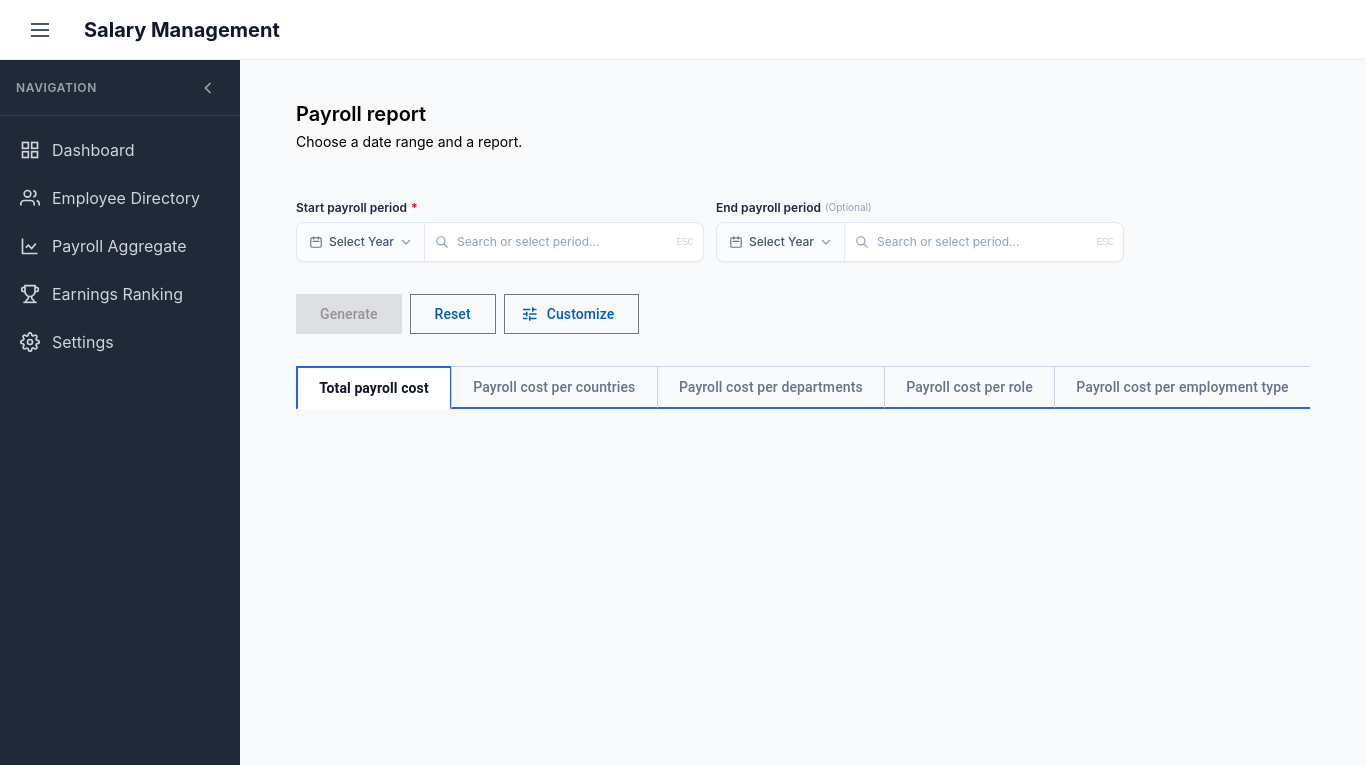
Test case: Aggregate Report Page › should render the department report with accurate data and a coherent donut
Click the button "Select Year" below "Start payroll period": x=361, y=242 [297, 223, 425, 261]
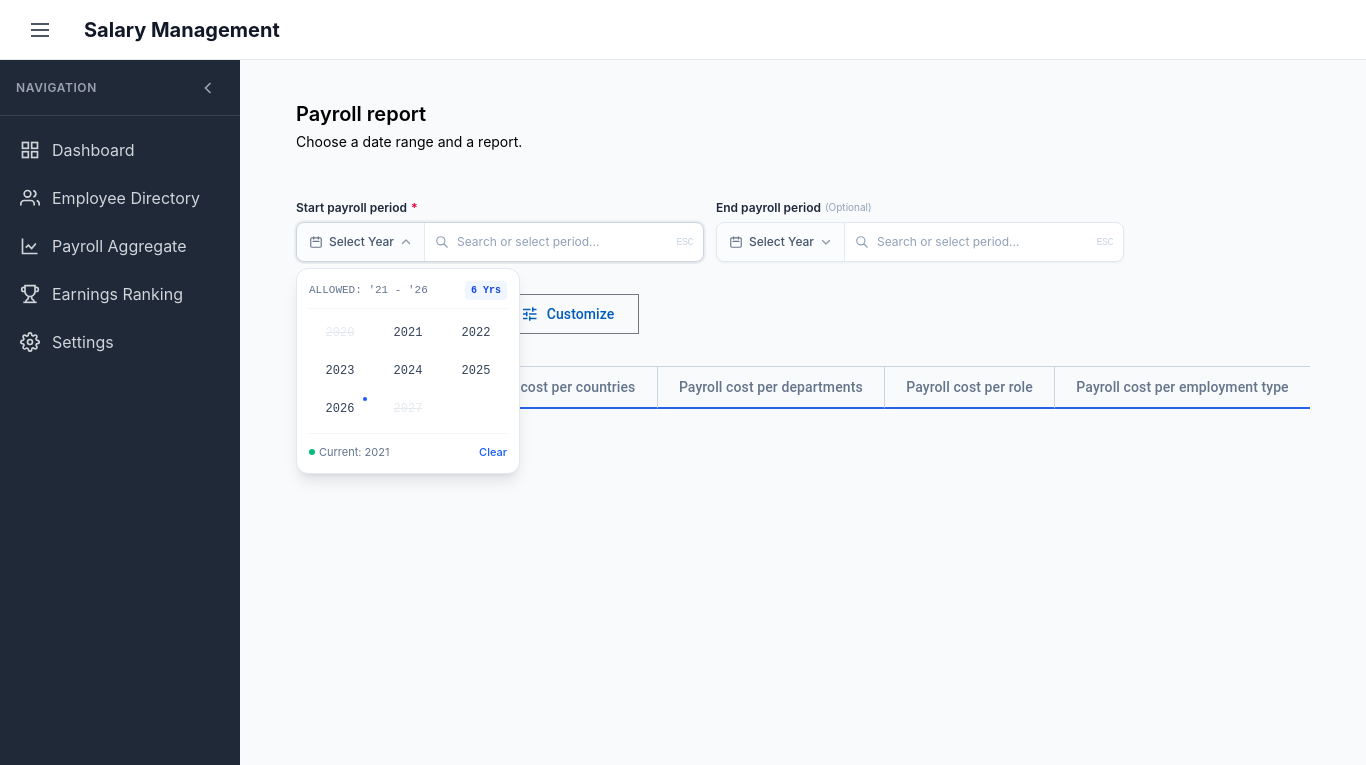
Expected: the button with test id "period-picker-year-2026" is shown
Click the button with test id "period-picker-year-2026": x=340, y=409 [309, 393, 371, 425]
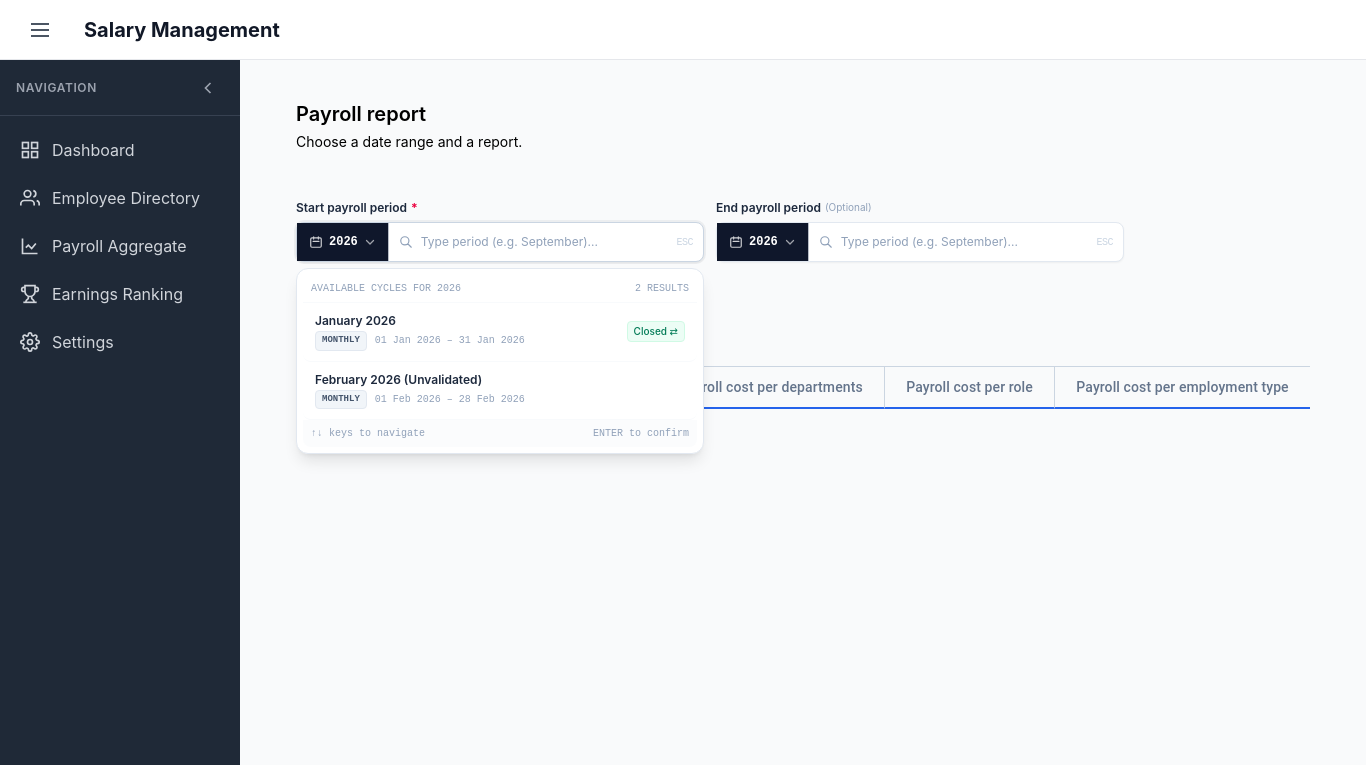
Click the button "January 2026 MONTHLY 01 Jan 2026 – 31 Jan 2026 Closed ⇄": x=500, y=333 [303, 303, 697, 362]
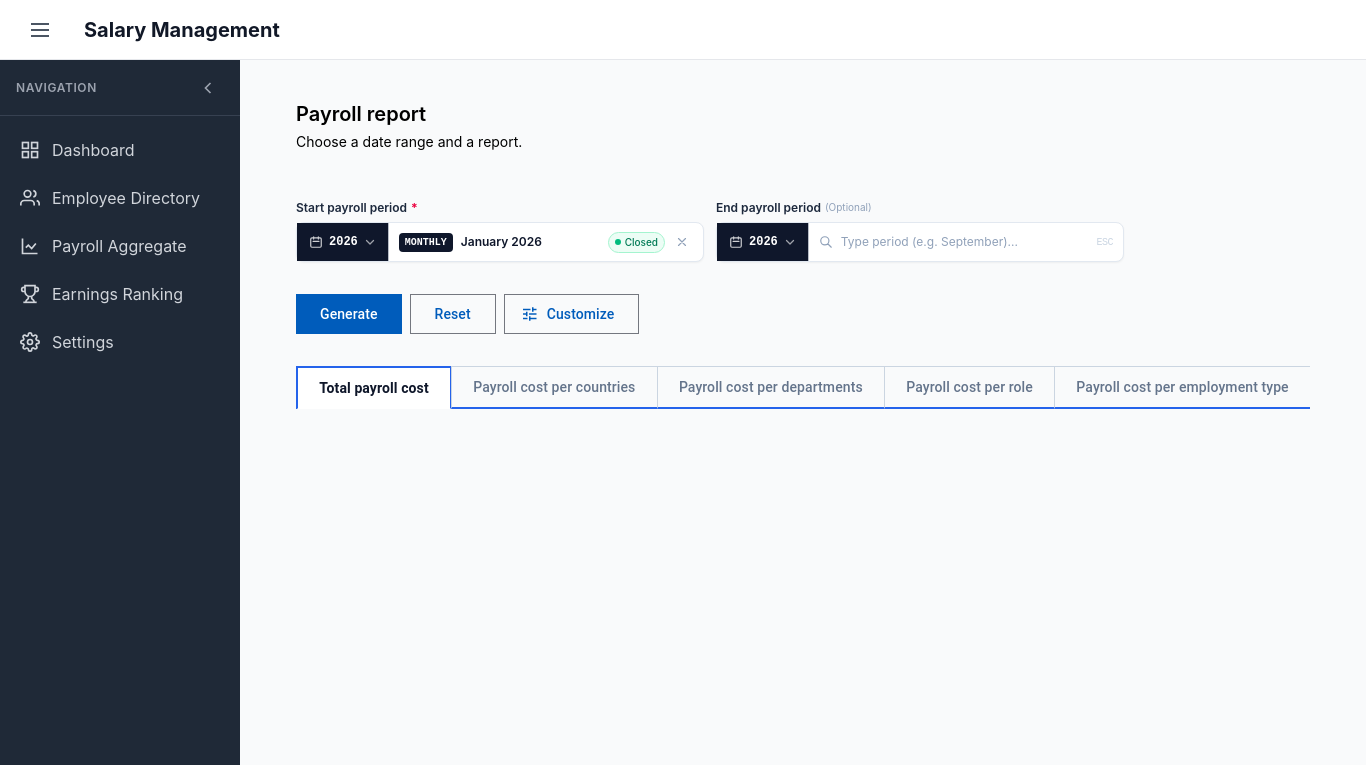
Click the button with test id "btn-generate": x=349, y=314 [296, 294, 402, 334]
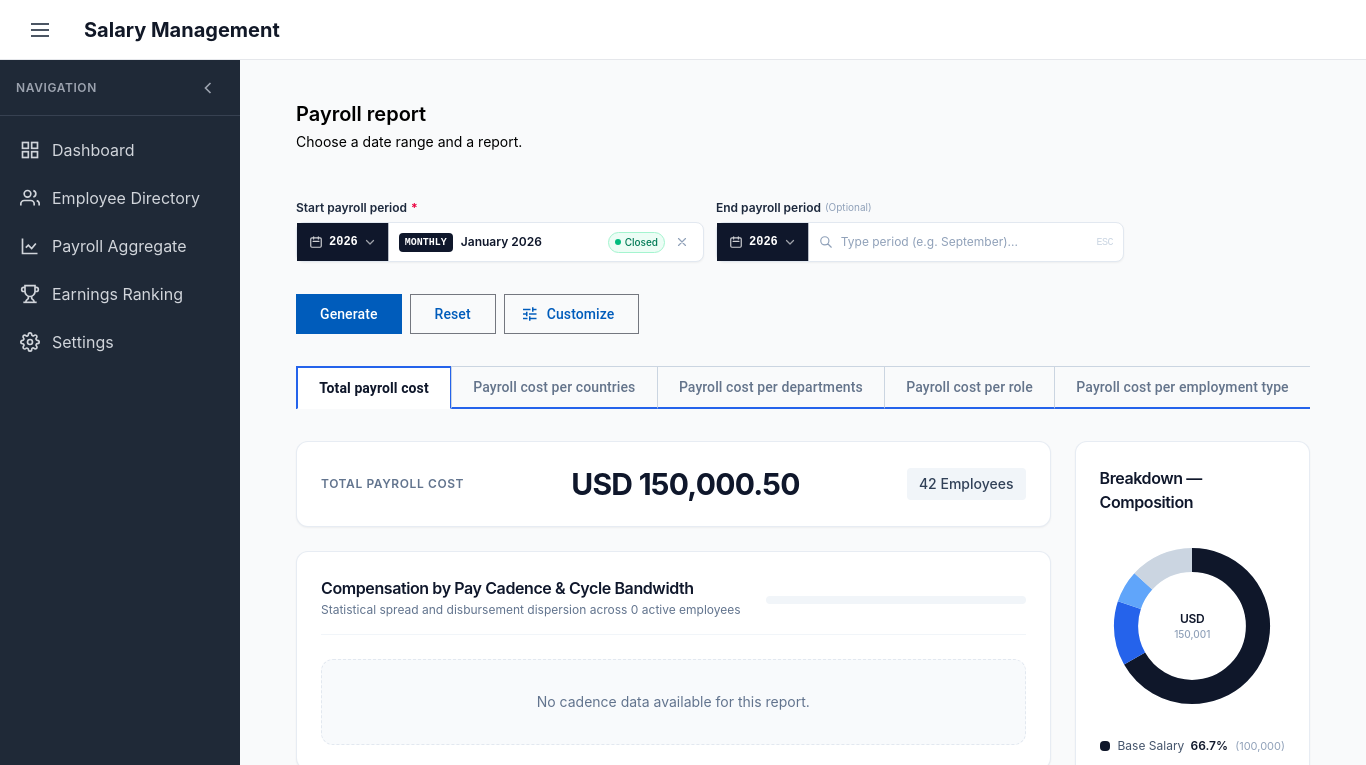
Click the button with test id "toggle-btn-DEPARTMENT": x=771, y=388 [657, 366, 885, 409]
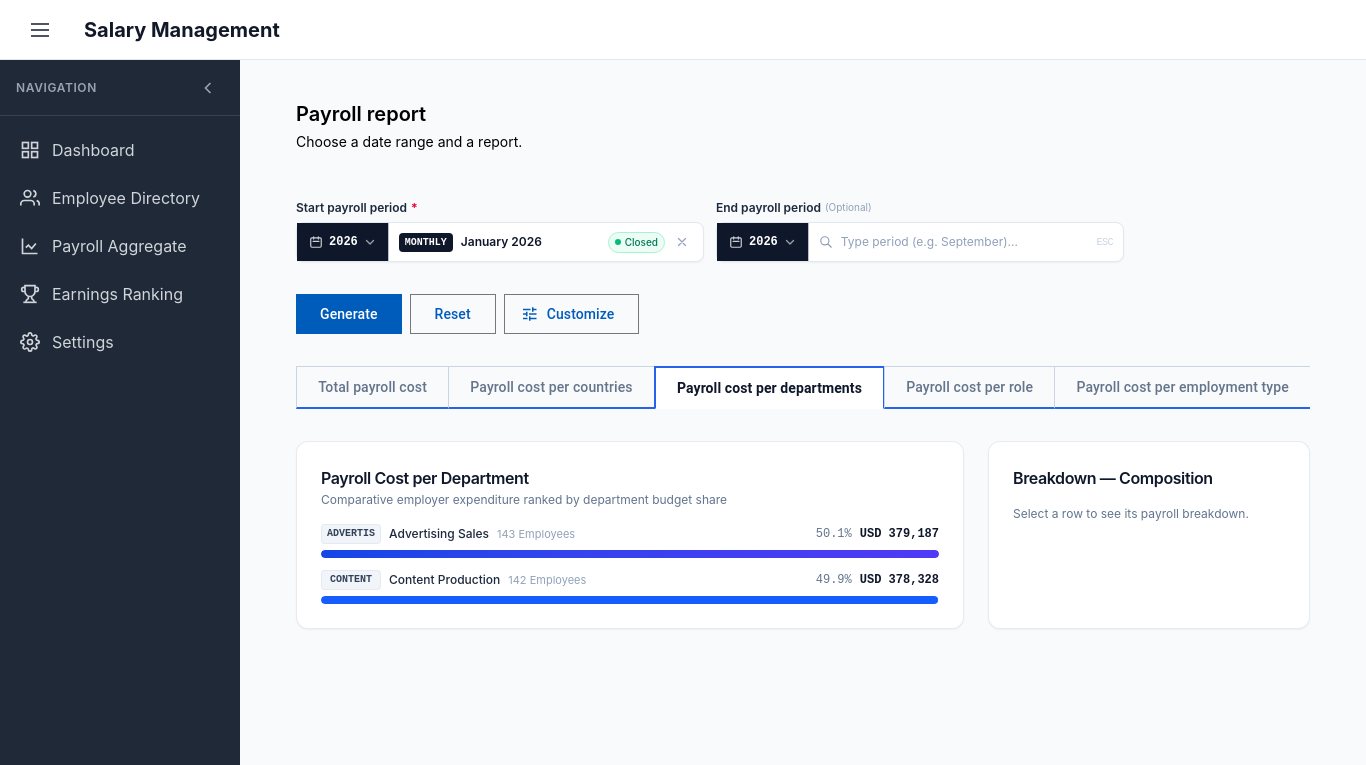
Expected: the heading with test id "aggregate-results-title" reads "Payroll Cost per Department", [321, 468, 529, 488]
Expected: the button with test id "tiered-bar-row-ADVERTIS" is shown
Expected: the button with test id "tiered-bar-row-CONTENT" is shown, [321, 570, 939, 604]
Click the button with test id "tiered-bar-row-ADVERTIS": x=351, y=534 [321, 524, 939, 558]
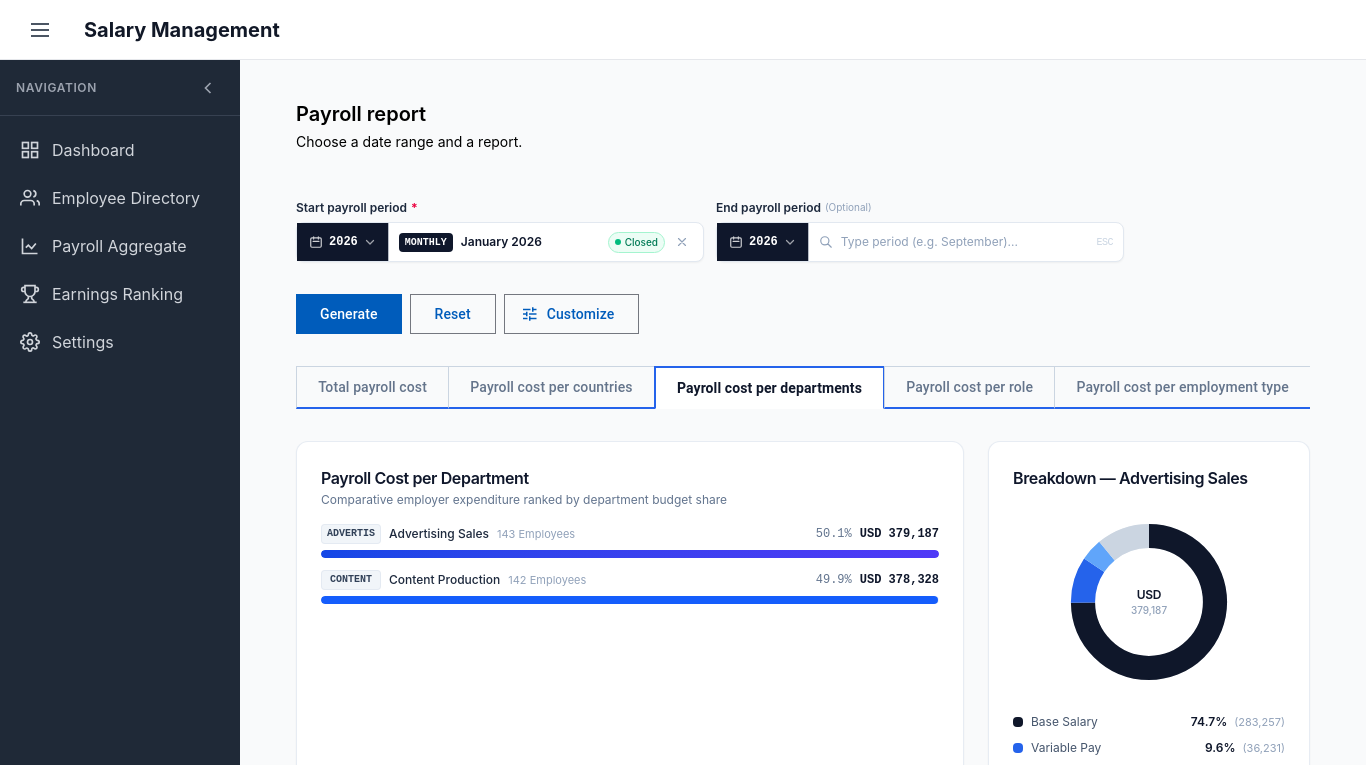
Expected: the heading with test id "donut-title" shows "Advertising Sales", [1013, 468, 1248, 488]
